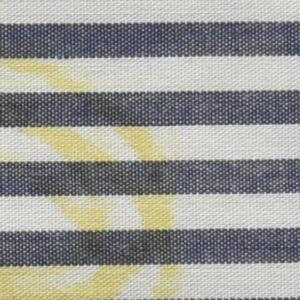Stain: (1, 36, 189, 300)
